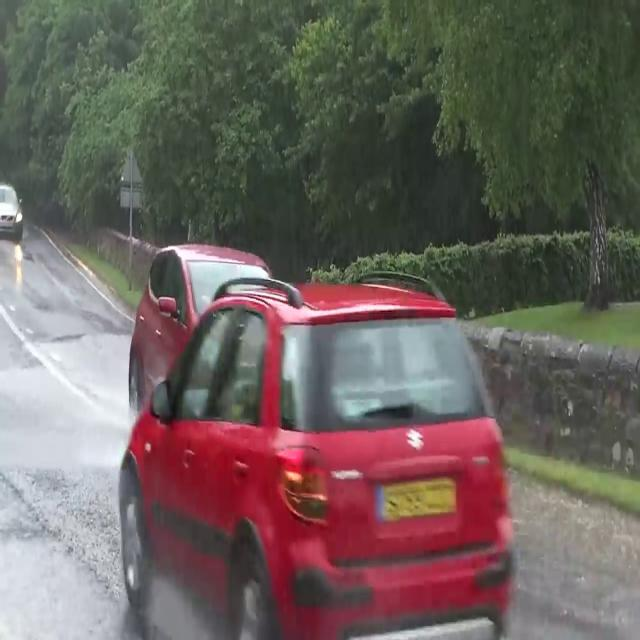license-plate-annotation: (370, 470, 459, 525)
